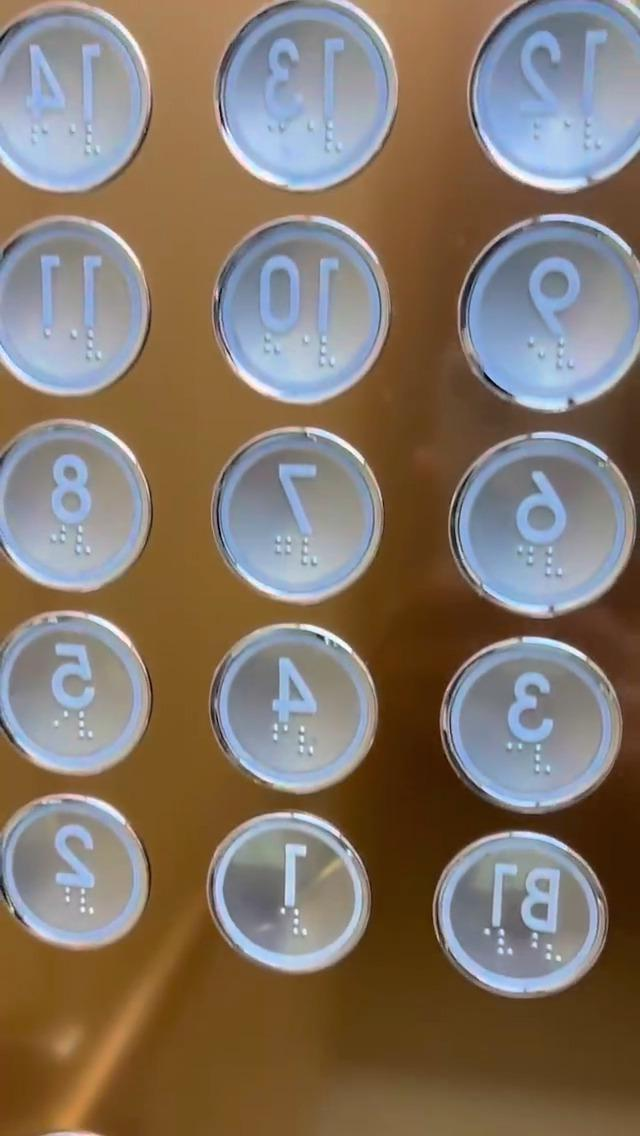button: (201, 223, 400, 386), (221, 0, 393, 186), (0, 0, 162, 192), (454, 224, 640, 390), (204, 429, 379, 604), (459, 431, 620, 610), (472, 0, 640, 164), (211, 826, 371, 997), (449, 643, 610, 807), (433, 843, 600, 999), (0, 426, 167, 580), (1, 809, 144, 957), (0, 233, 146, 376), (219, 626, 347, 786), (9, 630, 147, 767)
